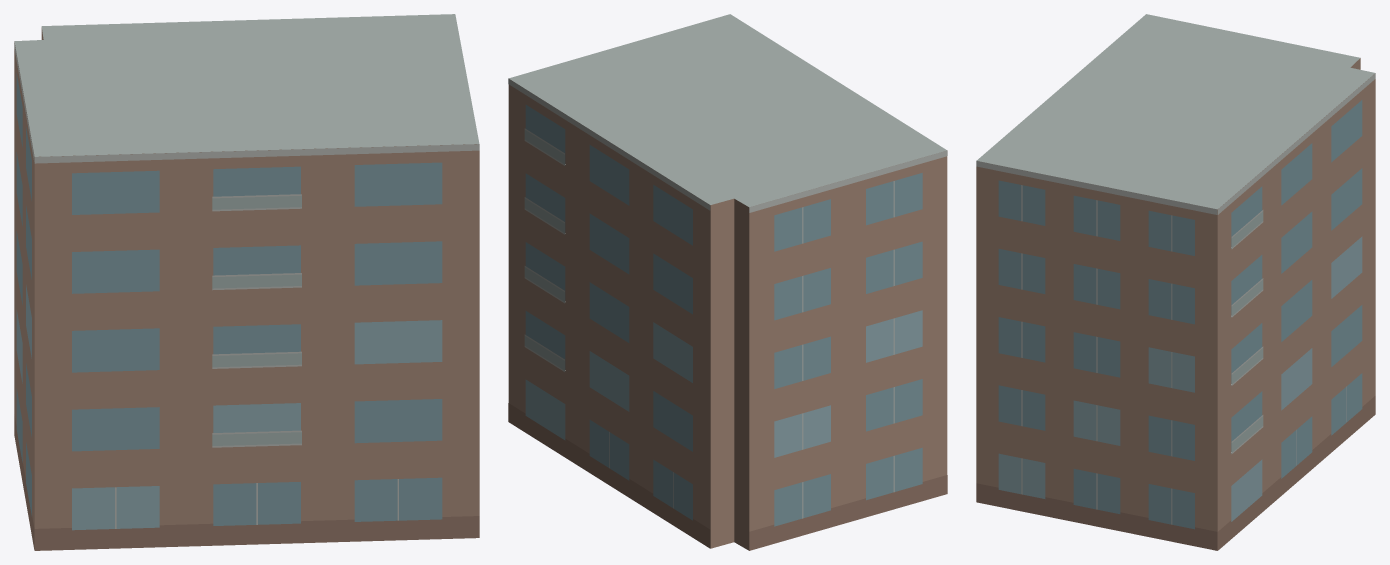
The model's file is survey-upis-32525608.glb.
3 renders of one model, left to right at view 1: azimuth 30°, elevation 25°; view 2: azimuth 150°, elevation 25°; view 3: azimuth 270°, elevation 25°, orthographic. The views are drawn at different scales.
Visible parts, largest first — view 1: survey-upis-32525608.tmp; view 2: survey-upis-32525608.tmp; view 3: survey-upis-32525608.tmp.
Boxes of the visible parts, x1,y1,x2,y2 form: survey-upis-32525608.tmp: [14, 14, 479, 550]; survey-upis-32525608.tmp: [508, 14, 947, 550]; survey-upis-32525608.tmp: [976, 14, 1375, 550].
Size of the model in its own units: 17.8 by 14.5 by 15.37.
